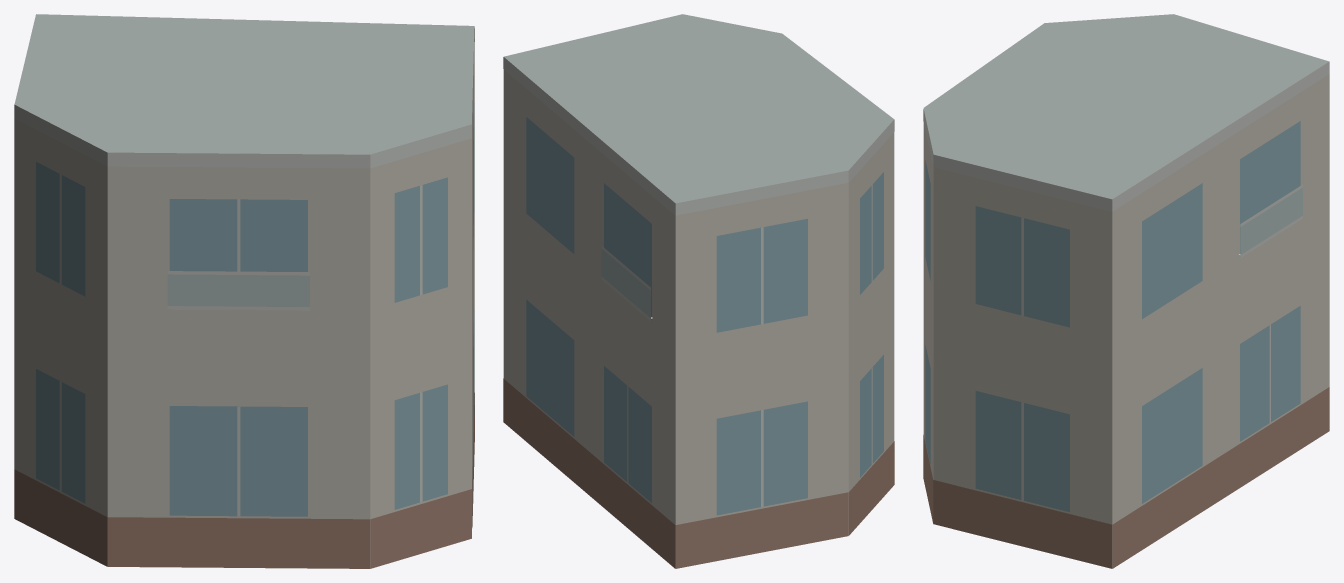
Rendered from survey-upis-32897183.glb.
The picture shows the model from 3 angles, left to right: view 1: azimuth 30°, elevation 25°; view 2: azimuth 150°, elevation 25°; view 3: azimuth 270°, elevation 25°; orthographic projection. The views are drawn at different scales.
Parts seen in each view (by area): view 1: survey-upis-32897183.tmp; view 2: survey-upis-32897183.tmp; view 3: survey-upis-32897183.tmp.
Part boxes in pixels (x1,y1,x2,y2): survey-upis-32897183.tmp: (14,14,474,568); survey-upis-32897183.tmp: (503,14,894,568); survey-upis-32897183.tmp: (923,14,1329,568).
Bounding box in the file's own units: 7.86 × 7.3 × 7.28.
